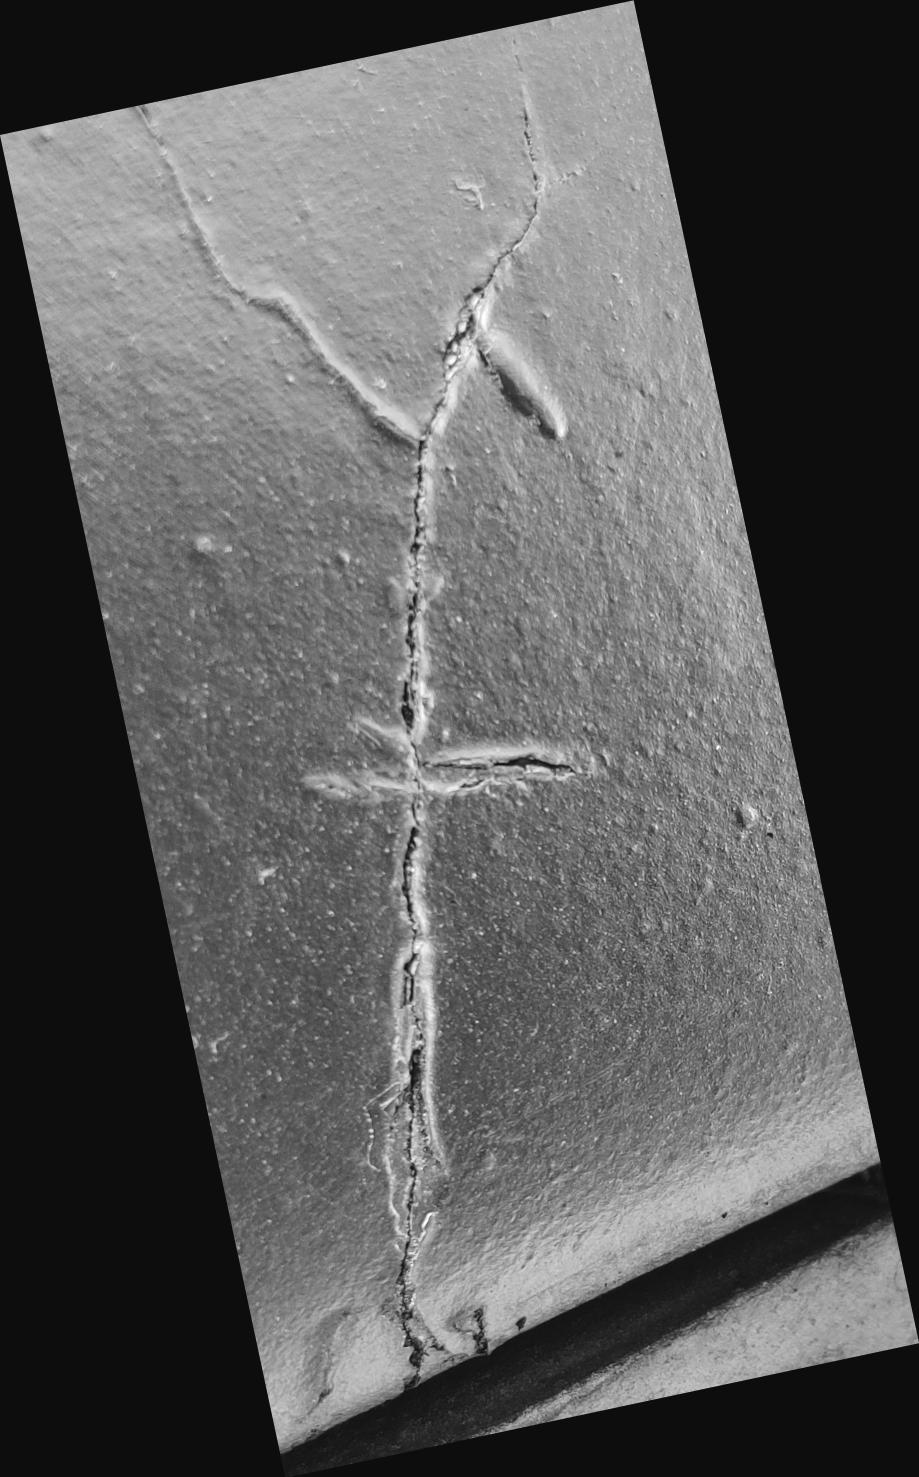crack: (1, 0, 919, 1477)
